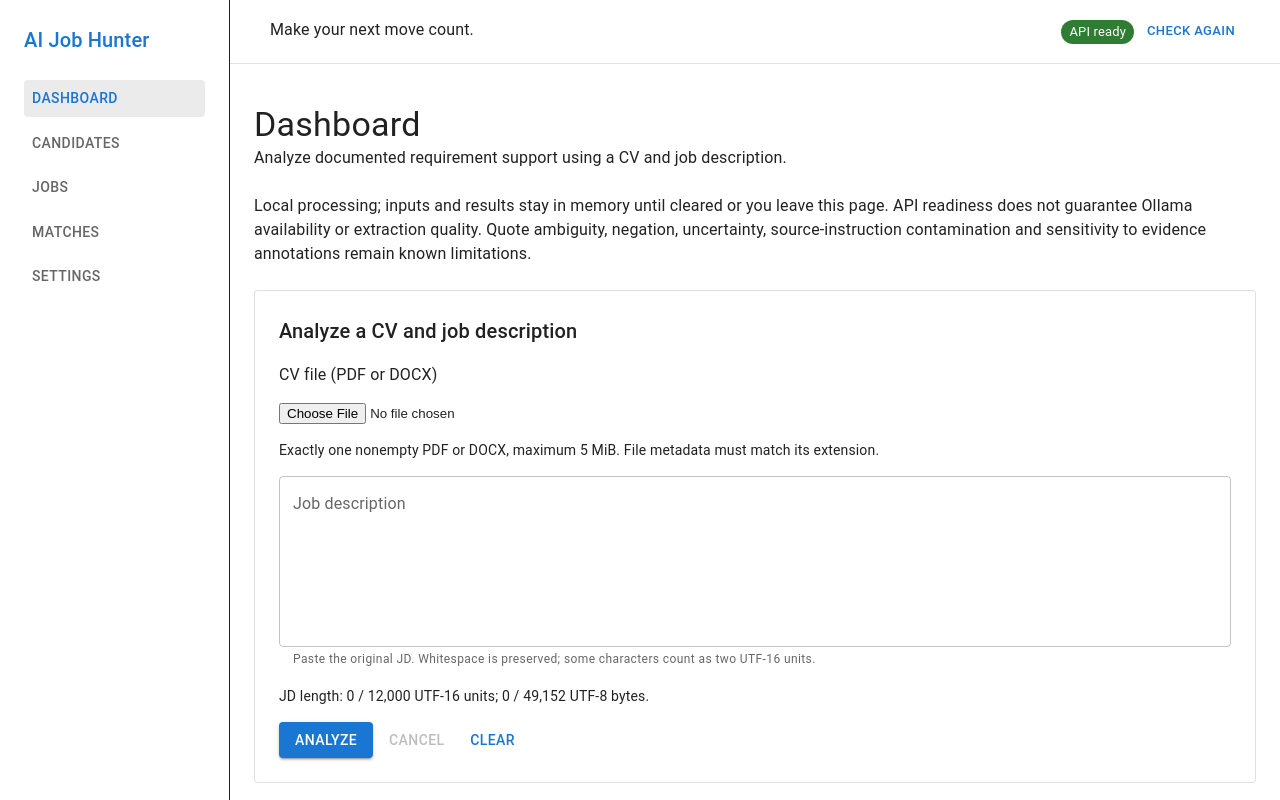
navigates to the honest Jobs placeholder
Click the link "Jobs": click(50, 187) x1=32 y1=179 x2=68 y2=195
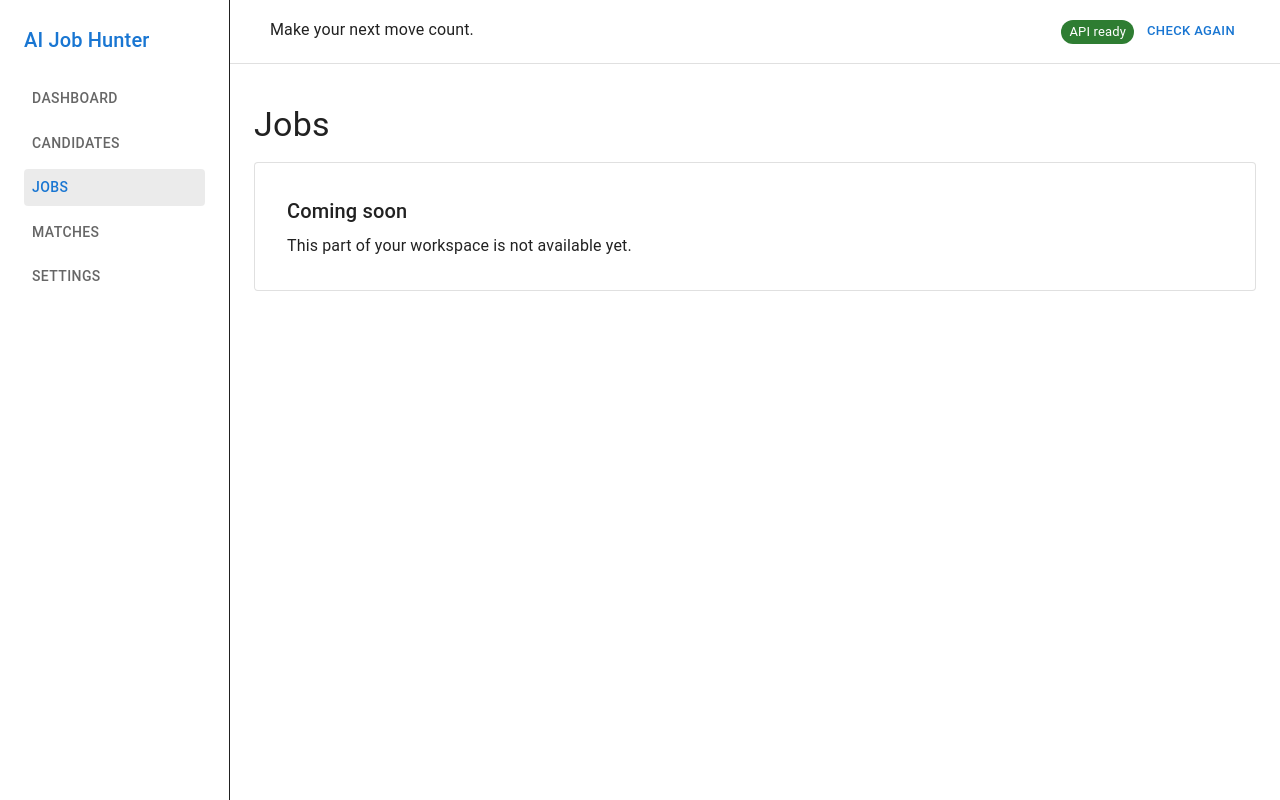
expect the heading "Jobs" is shown: met, box x1=254 y1=104 x2=330 y2=144
expect the heading "Coming soon" is shown: met, box x1=287 y1=199 x2=407 y2=223
expect the text "This part of your workspace is not available yet." is shown: met, box x1=287 y1=236 x2=632 y2=255
